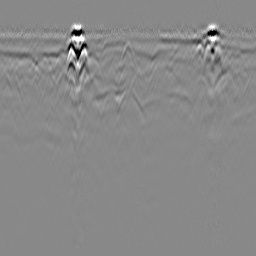cavity: (119, 39, 136, 68)
